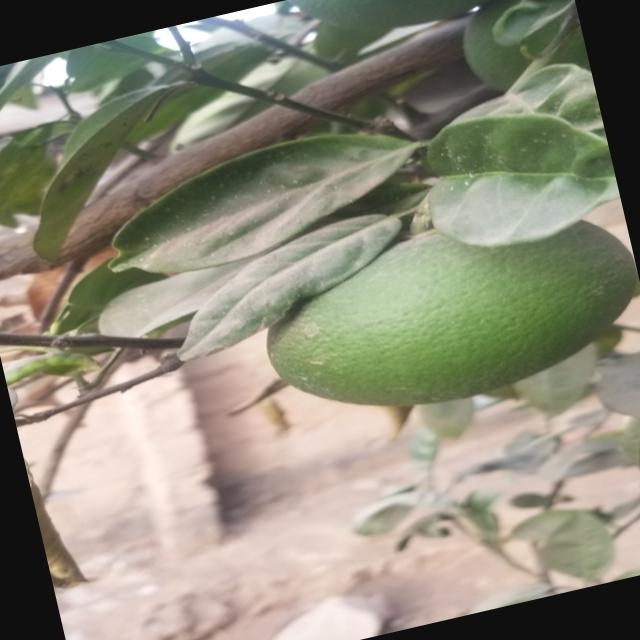agrume: (252, 203, 640, 435)
